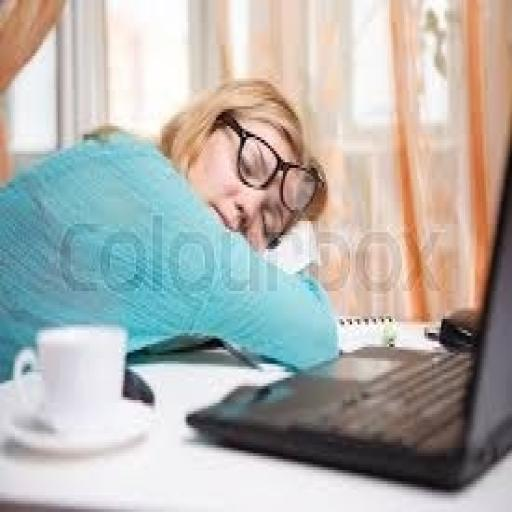sleeping: (0, 73, 343, 389)
